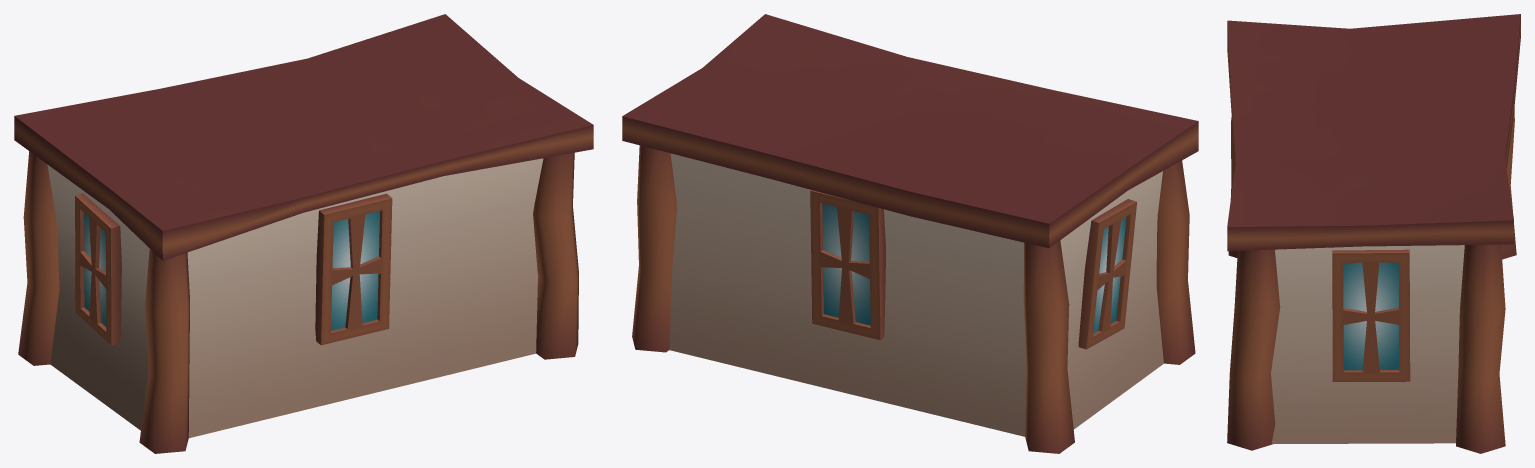
Rendered from FloorA02.fbx.
The picture shows the model from 3 angles, left to right: view 1: azimuth 30°, elevation 25°; view 2: azimuth 150°, elevation 25°; view 3: azimuth 270°, elevation 25°; orthographic projection.
Visible parts, largest first — view 1: FloorA02; view 2: FloorA02; view 3: FloorA02.
Part boxes in pixels (x1,y1,x2,y2): FloorA02: (14,14,593,453); FloorA02: (622,14,1198,453); FloorA02: (1227,14,1520,453).
Bounding box in the file's own units: 657 × 334 × 386.
Materials: 1 (1 with a texture image).
